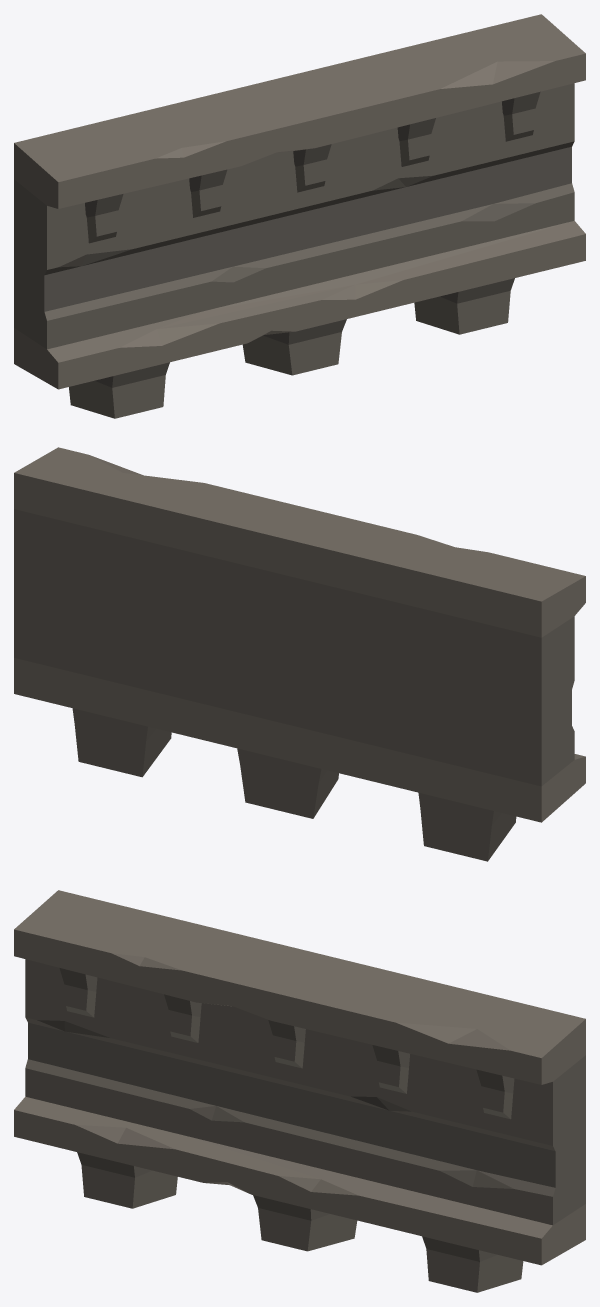
File: SM_Bld_Trim_01.fbx
The picture shows the model from 3 angles, top to bottom: view 1: azimuth 30°, elevation 25°; view 2: azimuth 150°, elevation 25°; view 3: azimuth 330°, elevation 25°; orthographic projection.
Visible parts, largest first — view 1: SM_Bld_Trim_01; view 2: SM_Bld_Trim_01; view 3: SM_Bld_Trim_01.
Part boxes in pixels (box(x1,y1,x2,y2)): SM_Bld_Trim_01: box(14, 14, 585, 418); SM_Bld_Trim_01: box(14, 447, 585, 861); SM_Bld_Trim_01: box(14, 890, 585, 1292).
Size of the model in its own units: 250 by 124 by 36.39.
